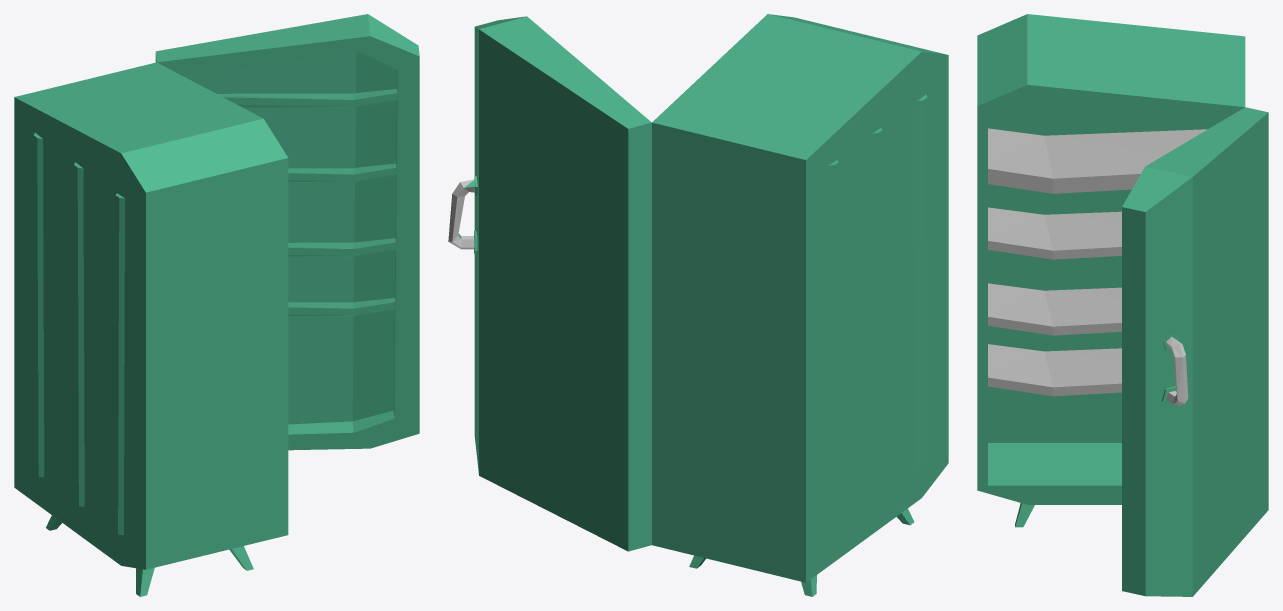
File: Fridge.fbx
3 views of the same model, side by side, from view 1: azimuth 30°, elevation 25°; view 2: azimuth 150°, elevation 25°; view 3: azimuth 270°, elevation 25° (orthographic). The views are drawn at different scales.
Parts seen in each view (by area): view 1: Fridge_01, Fridge_01_door; view 2: Fridge_01, Fridge_01_door; view 3: Fridge_01, Fridge_01_door.
Part boxes in pixels (x1=…): Fridge_01: x1=14, y1=62, x2=288, y2=596; Fridge_01_door: x1=155, y1=14, x2=419, y2=450; Fridge_01: x1=652, y1=14, x2=948, y2=596; Fridge_01_door: x1=448, y1=16, x2=651, y2=551; Fridge_01: x1=977, y1=14, x2=1245, y2=527; Fridge_01_door: x1=1122, y1=107, x2=1268, y2=596.
Bounding box in the file's own units: 128 × 148 × 87.
